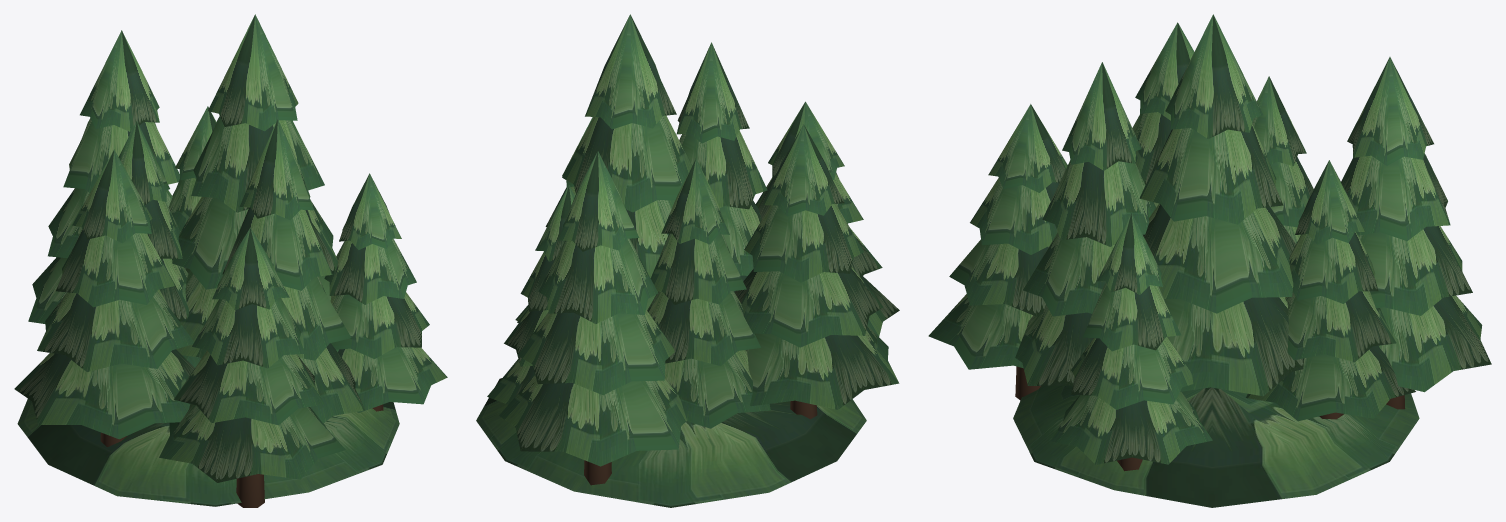
File: forest-mass-c.glb
3 views of the same model, side by side, from view 1: azimuth 30°, elevation 25°; view 2: azimuth 150°, elevation 25°; view 3: azimuth 270°, elevation 25° (orthographic). The views are drawn at different scales.
Visible parts, largest first — view 1: Needles, Trunk; view 2: Needles, Trunk; view 3: Needles, Trunk.
Part boxes in pixels (x1,y1,x2,y2): Needles: [14, 14, 447, 506]; Trunk: [100, 404, 383, 507]; Needles: [476, 14, 899, 507]; Trunk: [584, 400, 817, 485]; Needles: [928, 14, 1491, 507]; Trunk: [1015, 366, 1405, 471].
Bounding box in the file's own units: 9.72 × 9.83 × 11.68.
2 materials, 1 textured.
